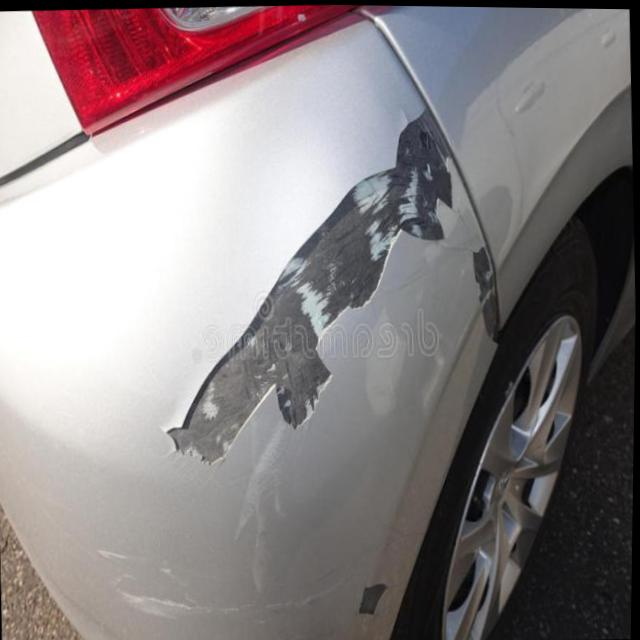Scratch: (156, 100, 470, 469), (470, 239, 506, 345), (356, 584, 390, 619)
